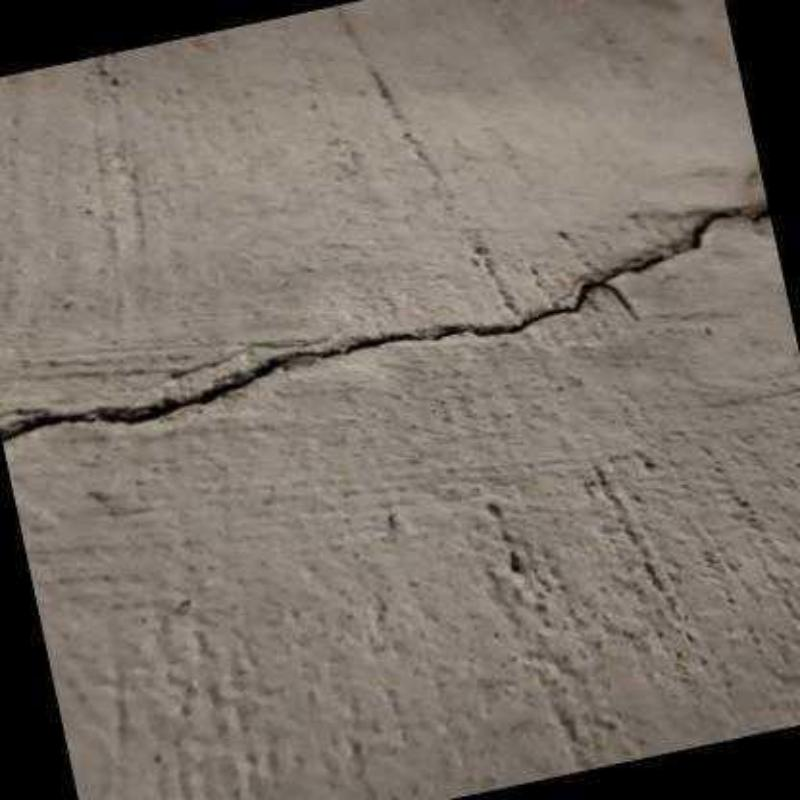crack: (1, 204, 770, 442)
